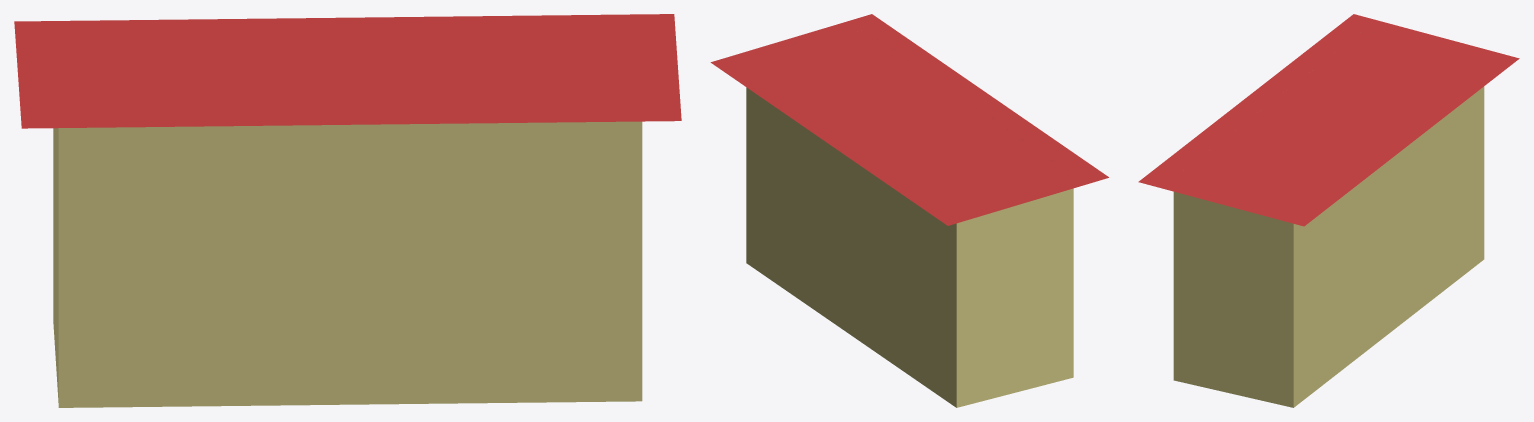
3 views of the same model, side by side, from view 1: azimuth 30°, elevation 25°; view 2: azimuth 150°, elevation 25°; view 3: azimuth 270°, elevation 25° (orthographic). The views are drawn at different scales.
Parts seen in each view (by area): view 1: group_5, group_3, group_4; view 2: group_5, group_3, group_4; view 3: group_5, group_3, group_4.
Boxes of the visible parts, box(x1,y1,x2,y2) form: group_5: box(53, 121, 642, 407); group_3: box(14, 14, 681, 128); group_4: box(14, 22, 680, 128); group_5: box(746, 87, 1073, 407); group_3: box(710, 14, 1072, 225); group_4: box(821, 14, 1108, 225); group_5: box(1173, 86, 1484, 407); group_3: box(1138, 30, 1519, 226); group_4: box(1138, 14, 1518, 190).
Size of the model in its own units: 13.99 by 10.95 by 6.42.
